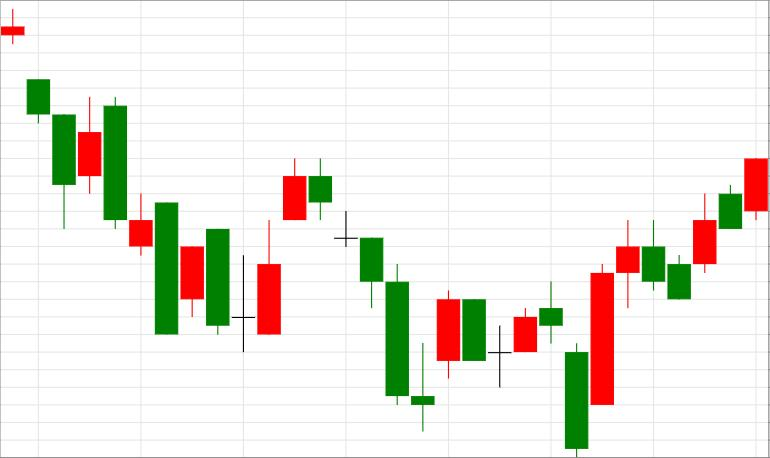morning_star_rise: (309, 158, 460, 431)
